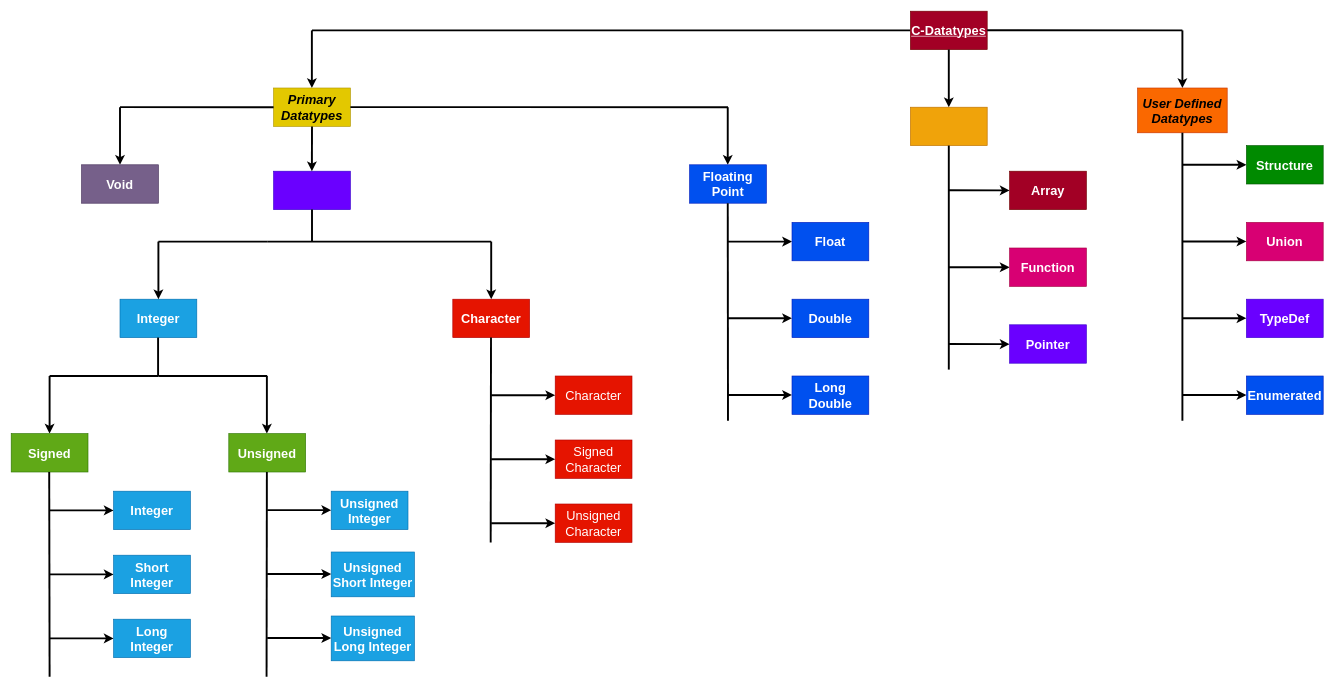
This 1334x689 diagram has some shape labels left out. Here are the shapes that lost their labels. From the top down, the centre of each, then its label:
At point 948,126: "Derived Datatypes".
At point 311,190: "Integral".
